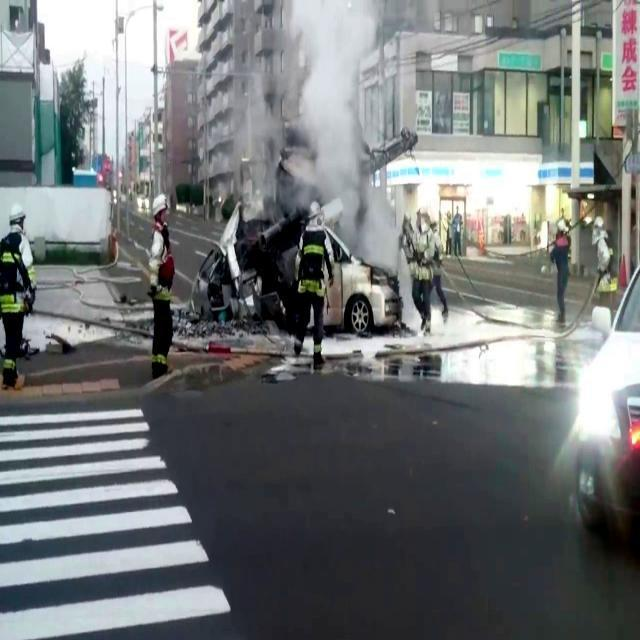Smoke: (250, 0, 421, 289)
